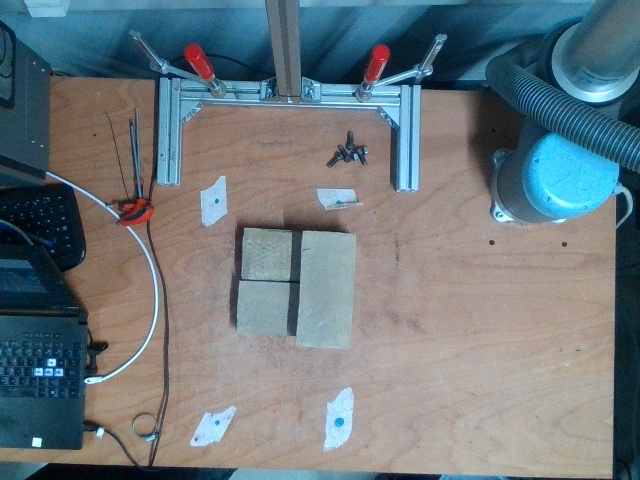brick: (294, 231, 359, 347)
